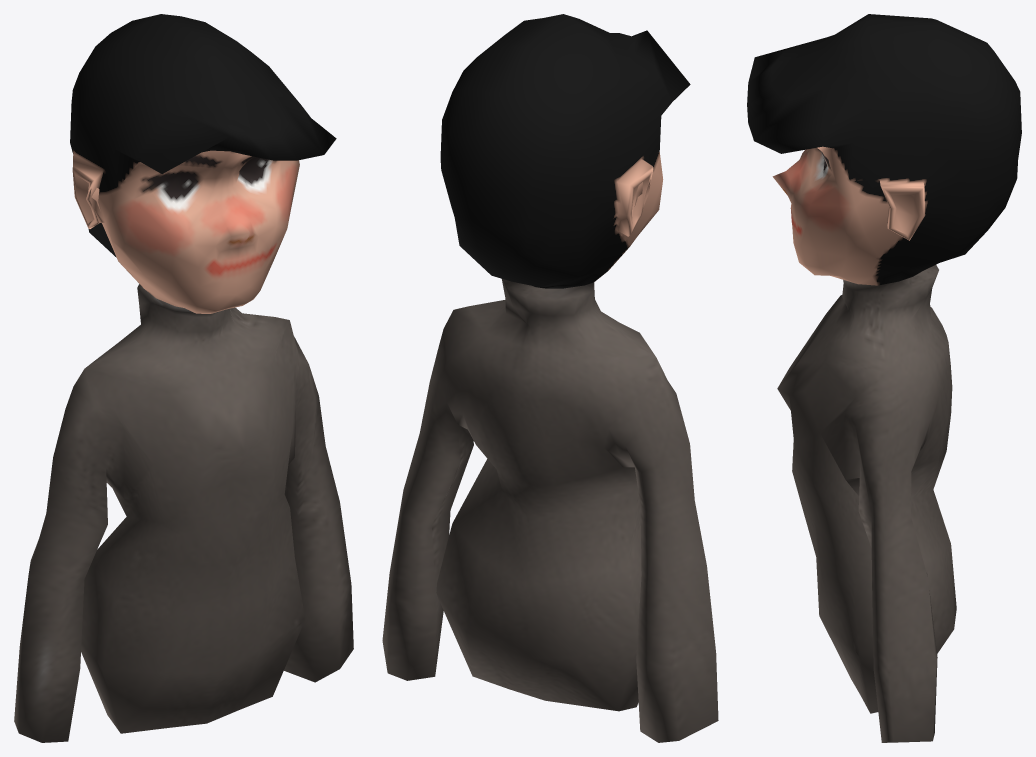
File: Char1.fbx
The picture shows the model from 3 angles, left to right: view 1: azimuth 30°, elevation 25°; view 2: azimuth 150°, elevation 25°; view 3: azimuth 270°, elevation 25°; orthographic projection. The views are drawn at different scales.
Parts seen in each view (by area): view 1: polySurface8, polySurface9; view 2: polySurface8, polySurface9; view 3: polySurface8, polySurface9.
Boxes of the visible parts, <box> form: polySurface8: <box>14,103,353,742</box>; polySurface9: <box>71,14,336,173</box>; polySurface8: <box>382,116,718,742</box>; polySurface9: <box>442,14,690,157</box>; polySurface8: <box>772,92,1021,742</box>; polySurface9: <box>747,14,1020,153</box>.
Bounding box in the file's own units: 2.39 × 4.63 × 1.74.
1 material, 1 textured.
